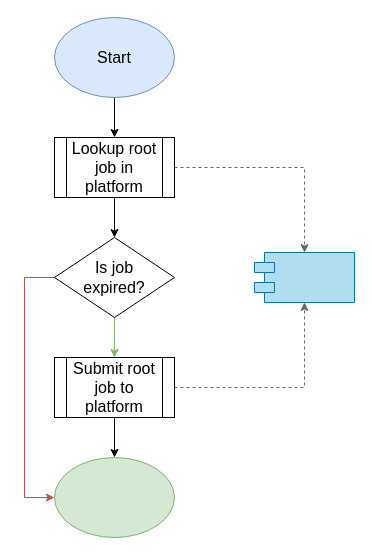
Image size: 372x555. Some labels were removed from this diagram. Each missing label, with the centre of its shape:
"Async Platform" belongs at (x=304, y=277).
"Done" belongs at (x=114, y=497).
